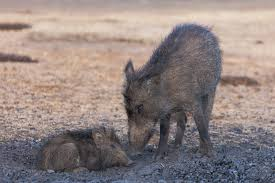boar: (120, 21, 217, 154), (36, 125, 135, 173)
